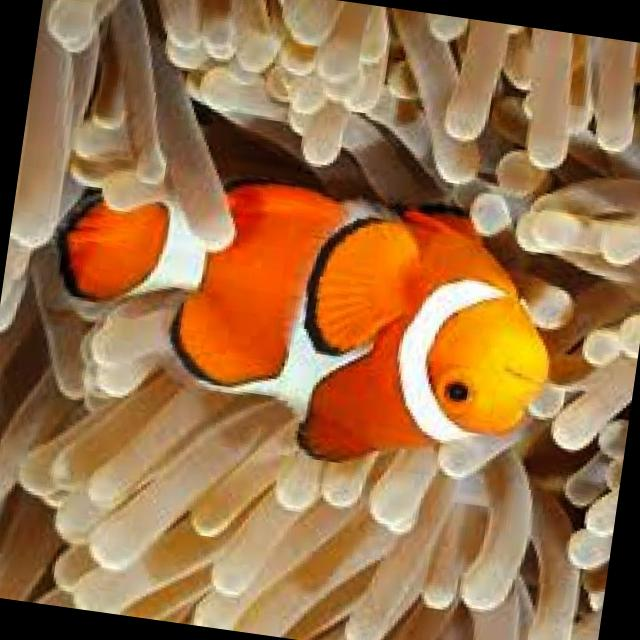ClownFish: (33, 154, 566, 491)
